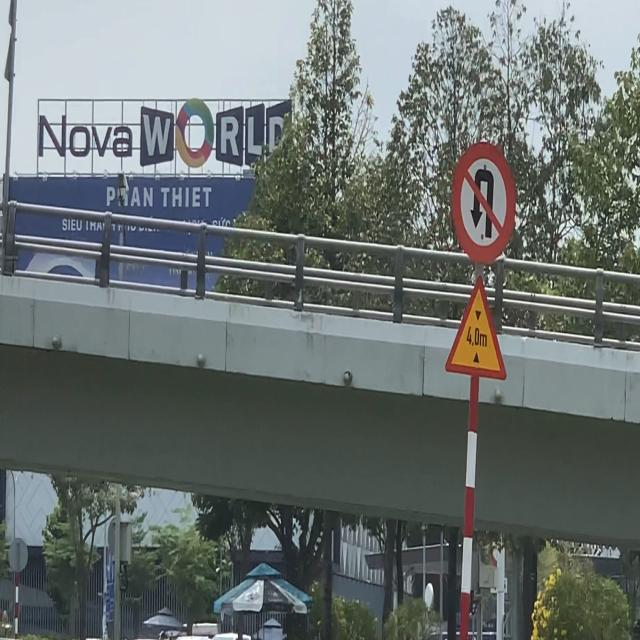Cam quay dau xe: (449, 139, 516, 265)
Nguy hiem: (444, 272, 509, 385)
